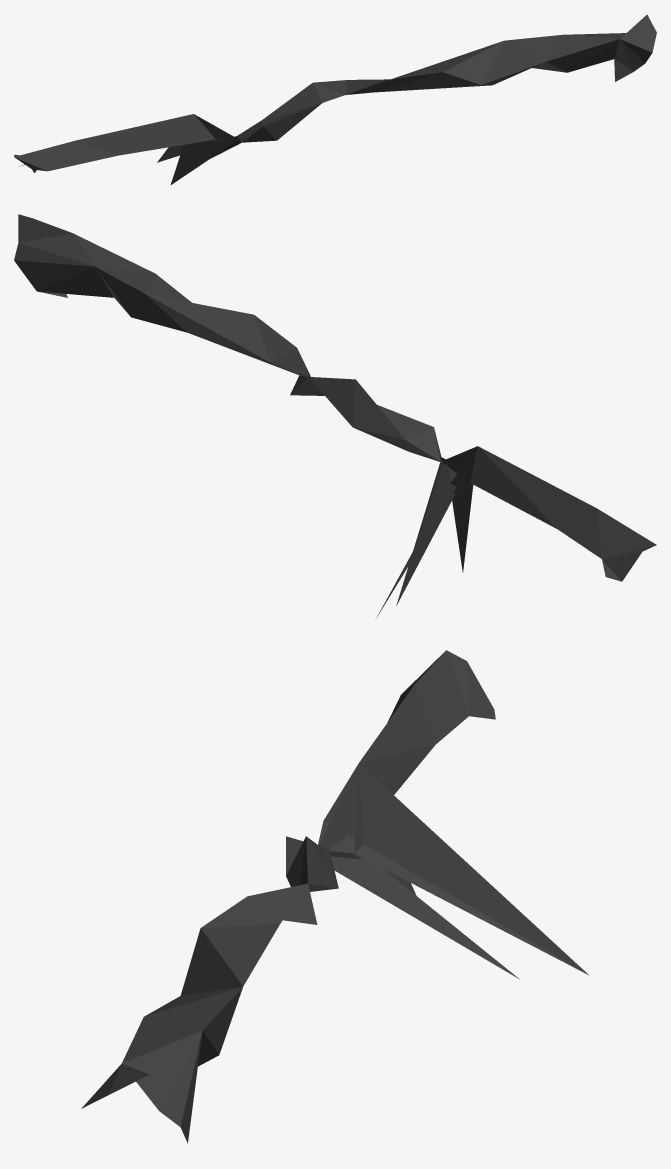
File: L_sacrotuberous_R_L_sacrotuberous_R.glb
3 views of the same model, one above another, from view 1: azimuth 30°, elevation 25°; view 2: azimuth 150°, elevation 25°; view 3: azimuth 270°, elevation 25° (orthographic). The views are drawn at different scales.
Visible parts, largest first — view 1: L_sacrotuberous_R_L_sacrotuberous_R; view 2: L_sacrotuberous_R_L_sacrotuberous_R; view 3: L_sacrotuberous_R_L_sacrotuberous_R.
Part boxes in pixels (<box>): L_sacrotuberous_R_L_sacrotuberous_R: <box>14,14,656,185</box>; L_sacrotuberous_R_L_sacrotuberous_R: <box>14,214,656,619</box>; L_sacrotuberous_R_L_sacrotuberous_R: <box>81,650,589,1143</box>.
Bounding box in the file's own units: 0.0102 × 0.00241 × 0.00403.
1 material, 1 textured.
